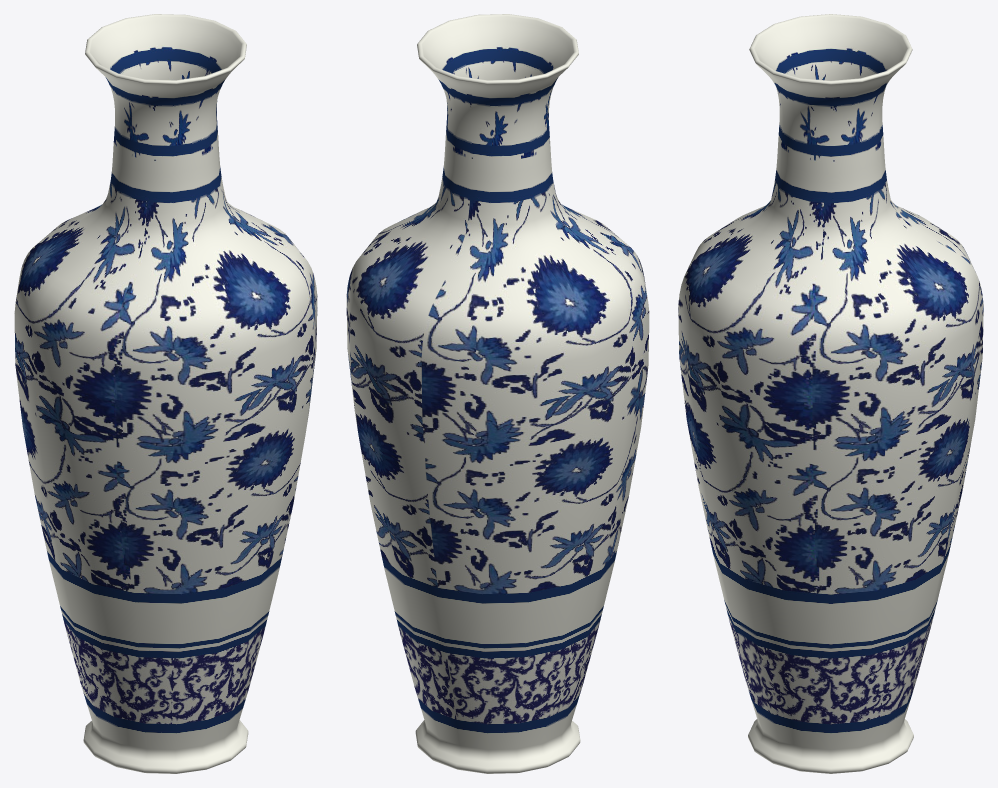
Rendered from 精美中国风青花瓷器.fbx.
3 renders of one model, left to right at view 1: azimuth 30°, elevation 25°; view 2: azimuth 150°, elevation 25°; view 3: azimuth 270°, elevation 25°, orthographic.
Parts seen in each view (by area): view 1: 3DXY_geometry_001; view 2: 3DXY_geometry_001; view 3: 3DXY_geometry_001.
Boxes of the visible parts, x1,y1,x2,y2 form: 3DXY_geometry_001: [14, 14, 317, 773]; 3DXY_geometry_001: [346, 14, 649, 773]; 3DXY_geometry_001: [678, 14, 983, 773].
Bounding box in the file's own units: 190 × 475 × 190.
1 material, 1 textured.
